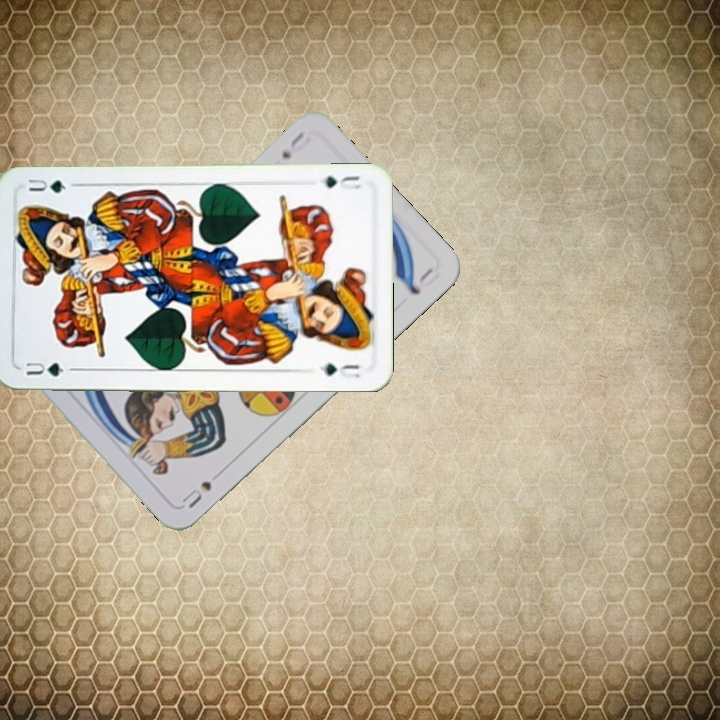GU: (22, 357, 67, 379), (321, 172, 363, 192)
SU: (277, 127, 314, 162), (178, 477, 215, 511)
